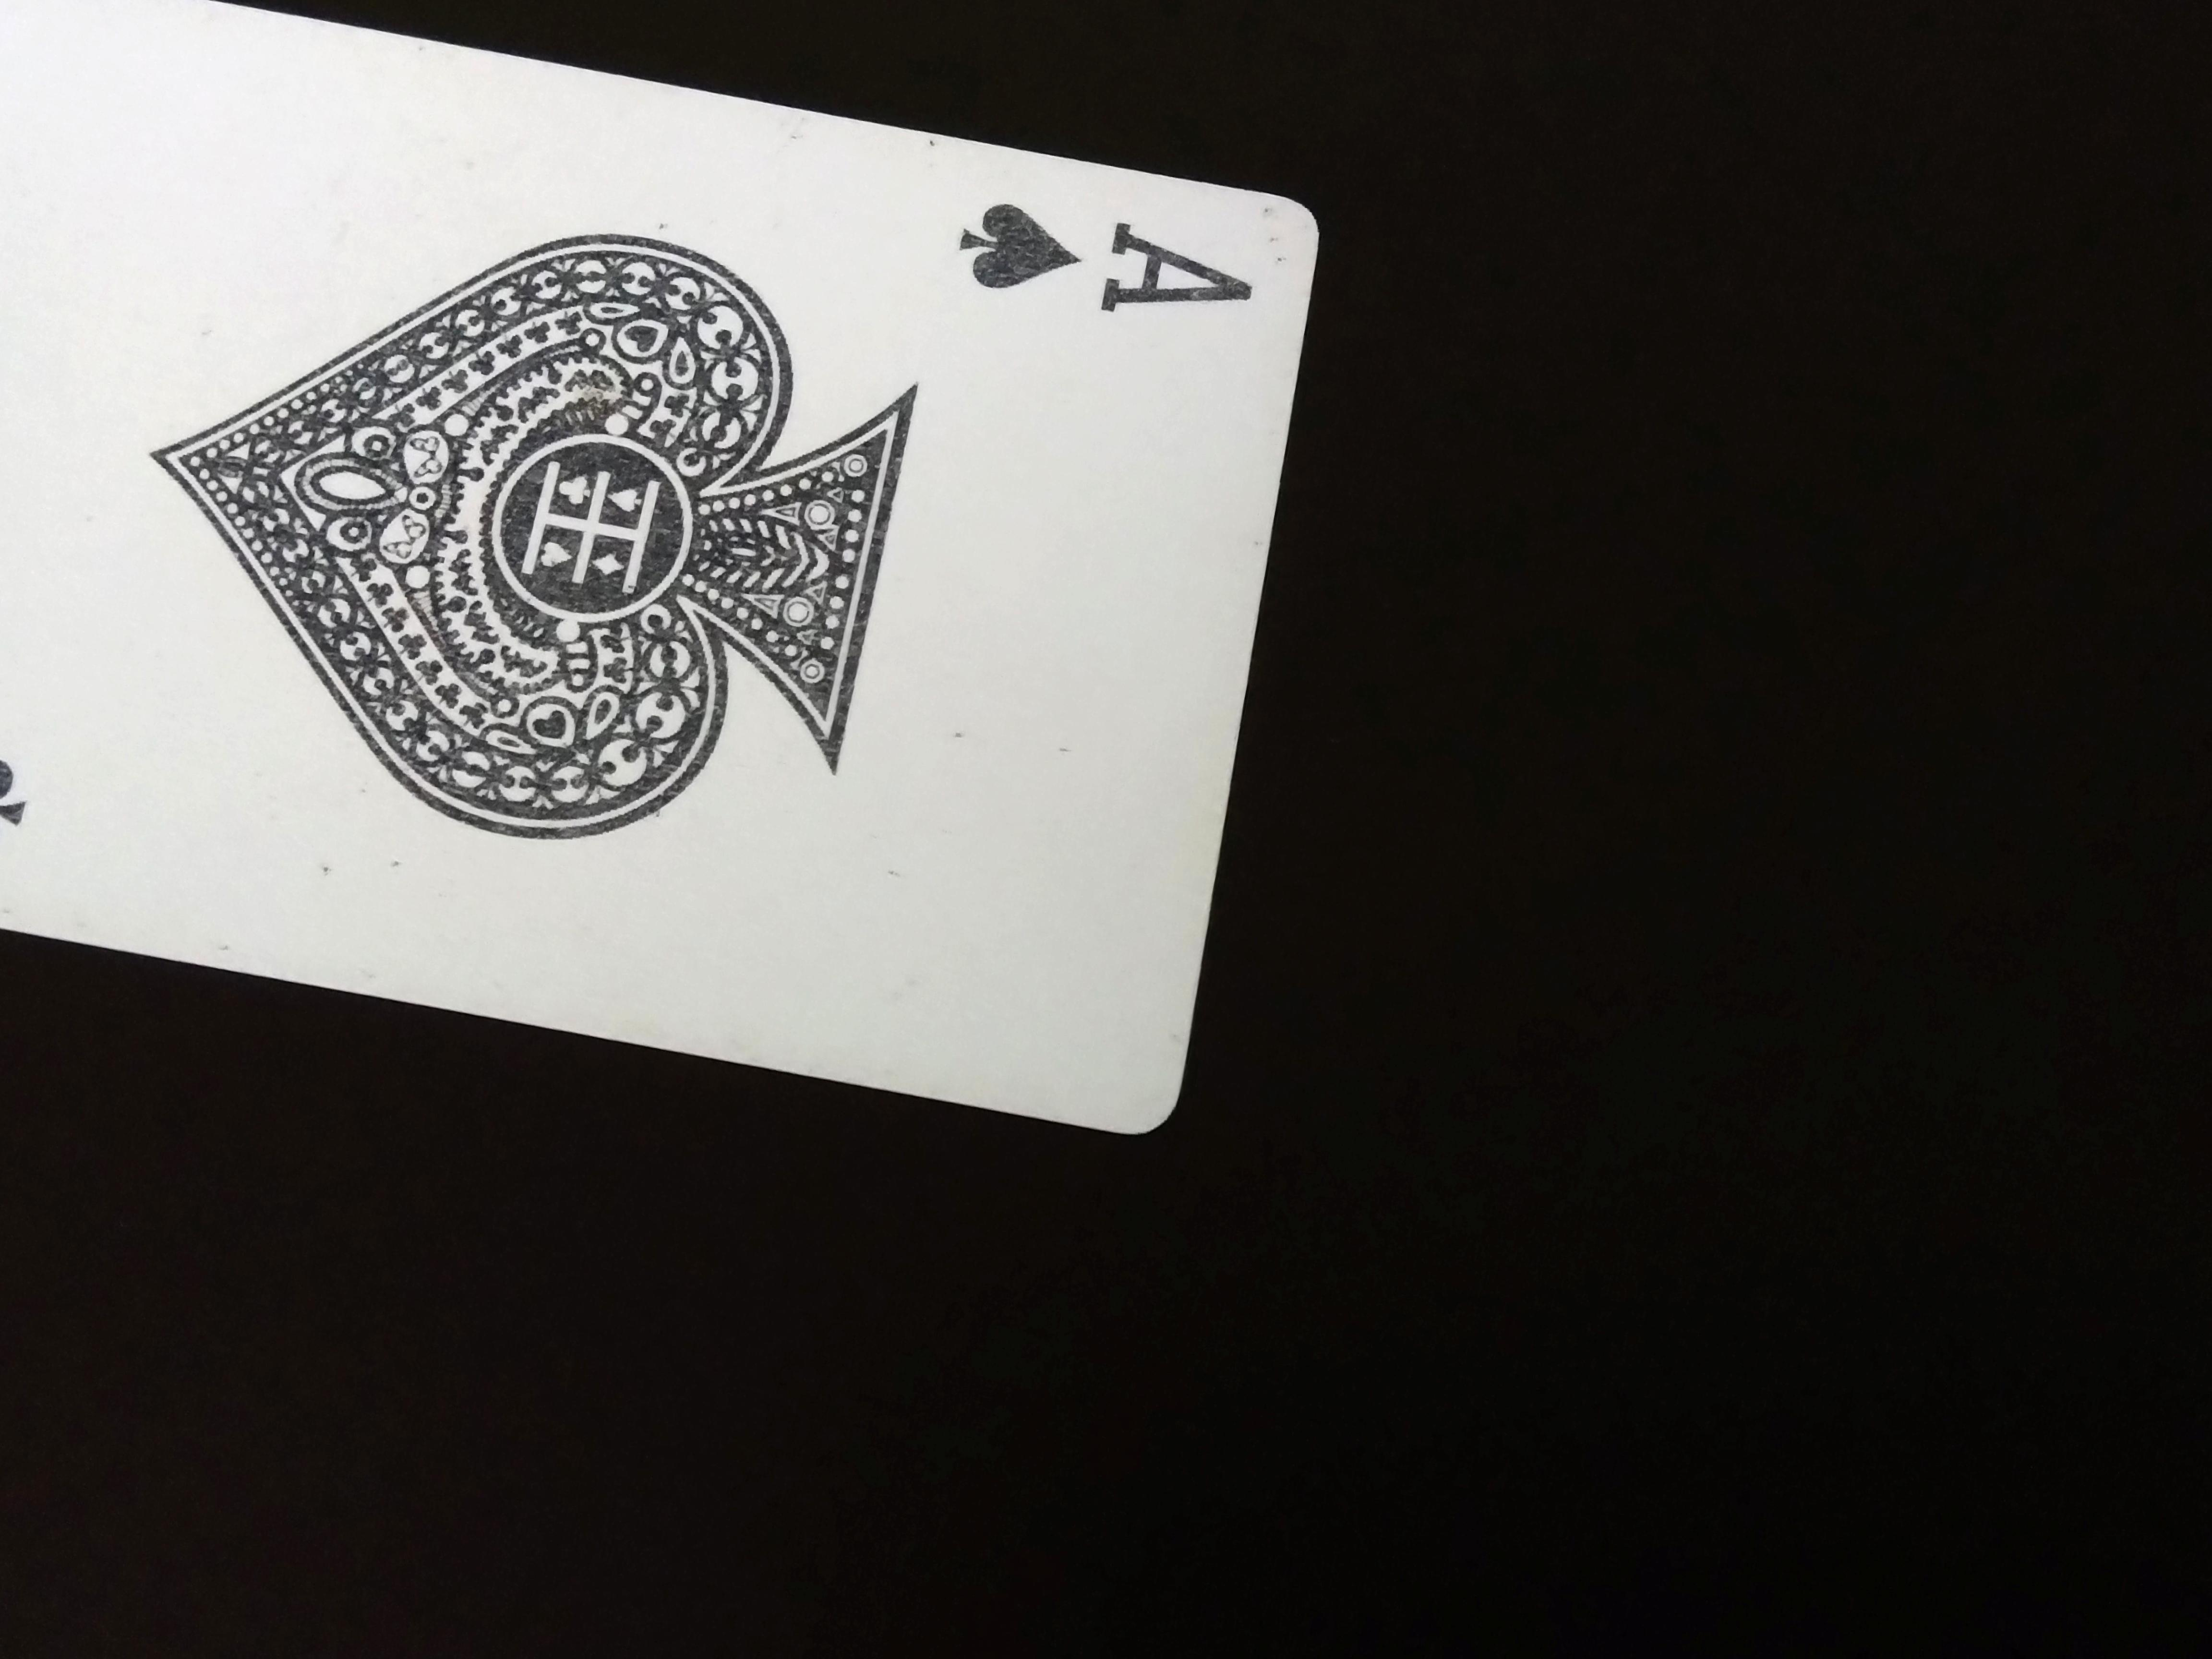AS: (944, 192, 1263, 343)
